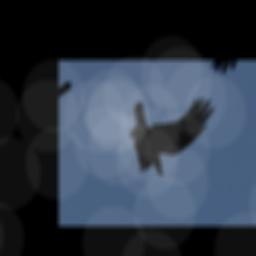Crow: (106, 81, 220, 185)
